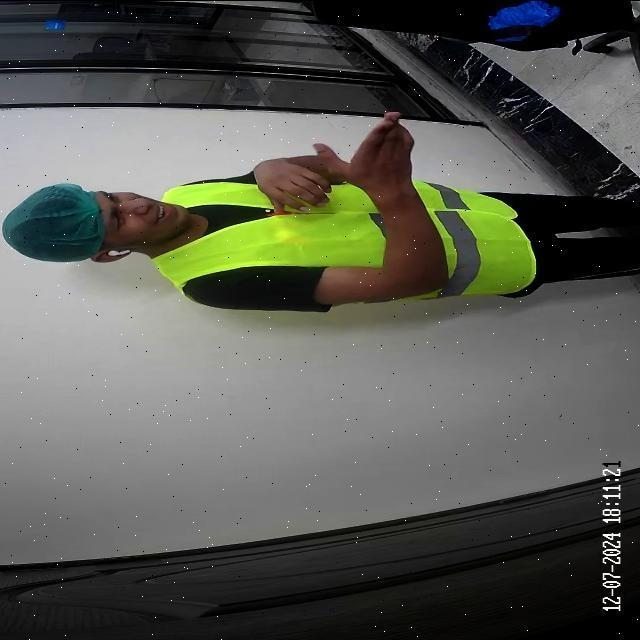gloves: (3, 172, 100, 270)
no_apron: (312, 116, 437, 192), (244, 154, 328, 216)
no_hairnet: (131, 190, 167, 248)
